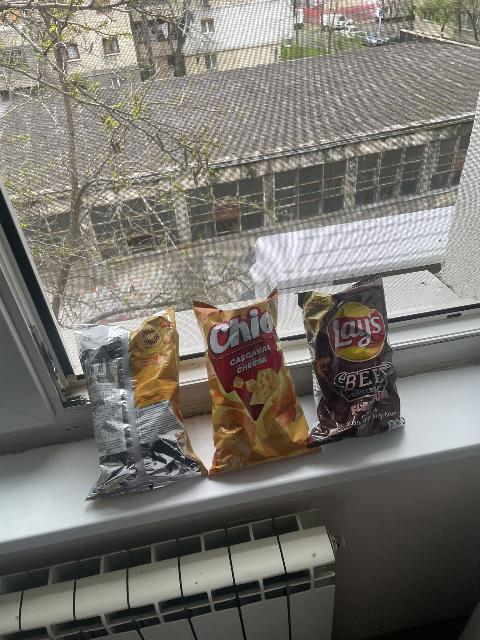Chio Cascaval 125g: (195, 290, 318, 469)
Chio Hula Hoops Cheese 70g: (77, 314, 206, 501)
Lays Beef Grilled Ribs 125g: (306, 281, 403, 439)
